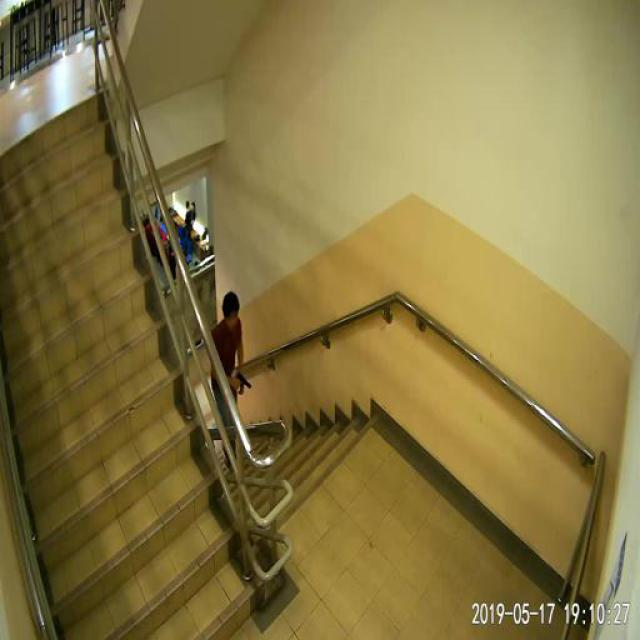Gun: (234, 371, 250, 389)
